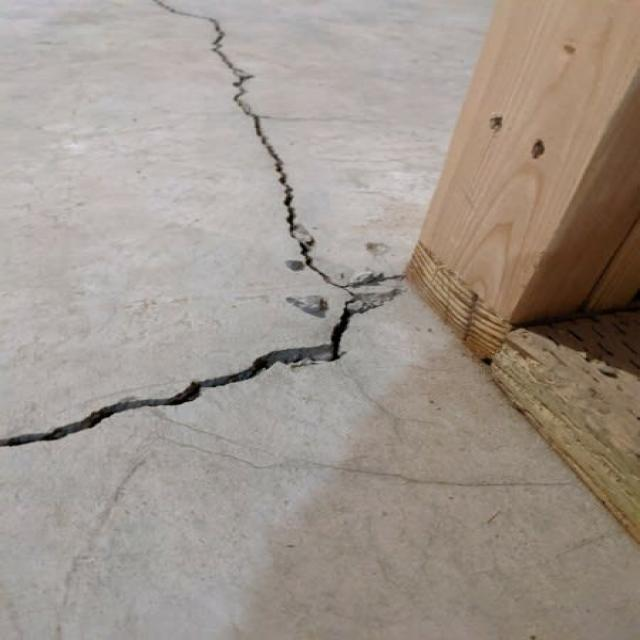multi-branched crack: (0, 2, 423, 459)
